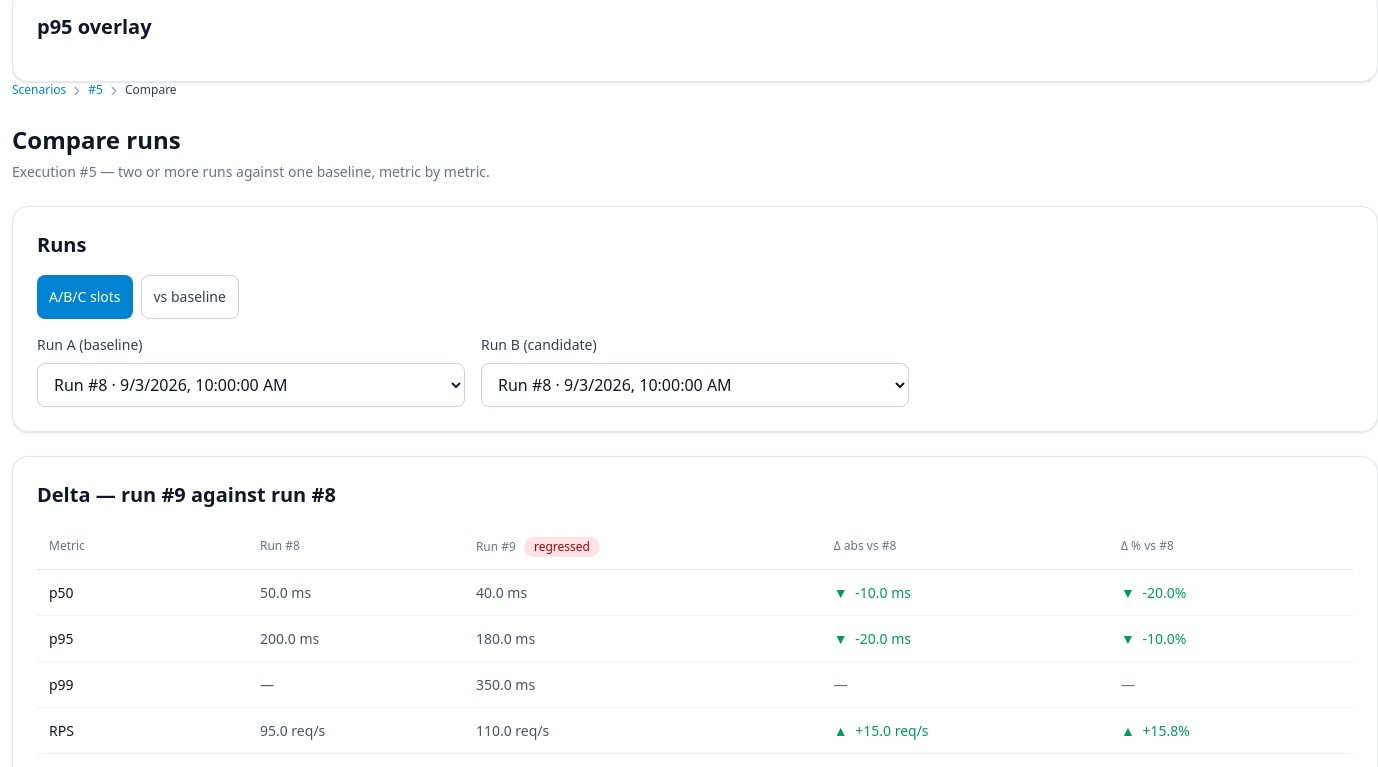
Test: RunCompare (mounted) › swaps runs when a selector changes (selector wiring)
(page scrolled)
Select "Run #8 · 9/3/2026, 10:00:00 AM" in the dropdown labelled "Run B (candidate)" at (695, 385), box [481,363,909,407]
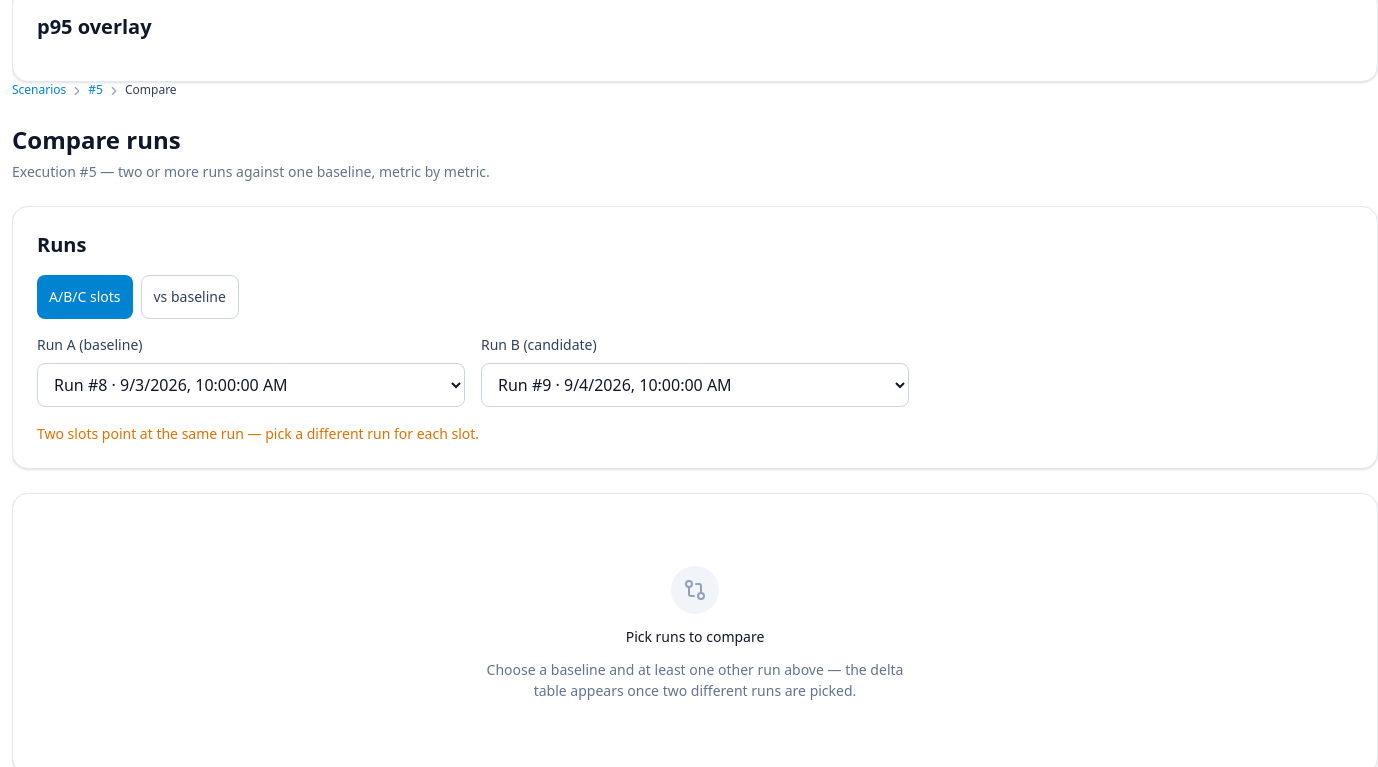
Expected: the text with test id "compare-same-run" is shown, [37,424,479,443]
Select "Run #9 · 9/4/2026, 10:00:00 AM" in the dropdown labelled "Run B (candidate)" at (695, 385), box [481,363,909,407]
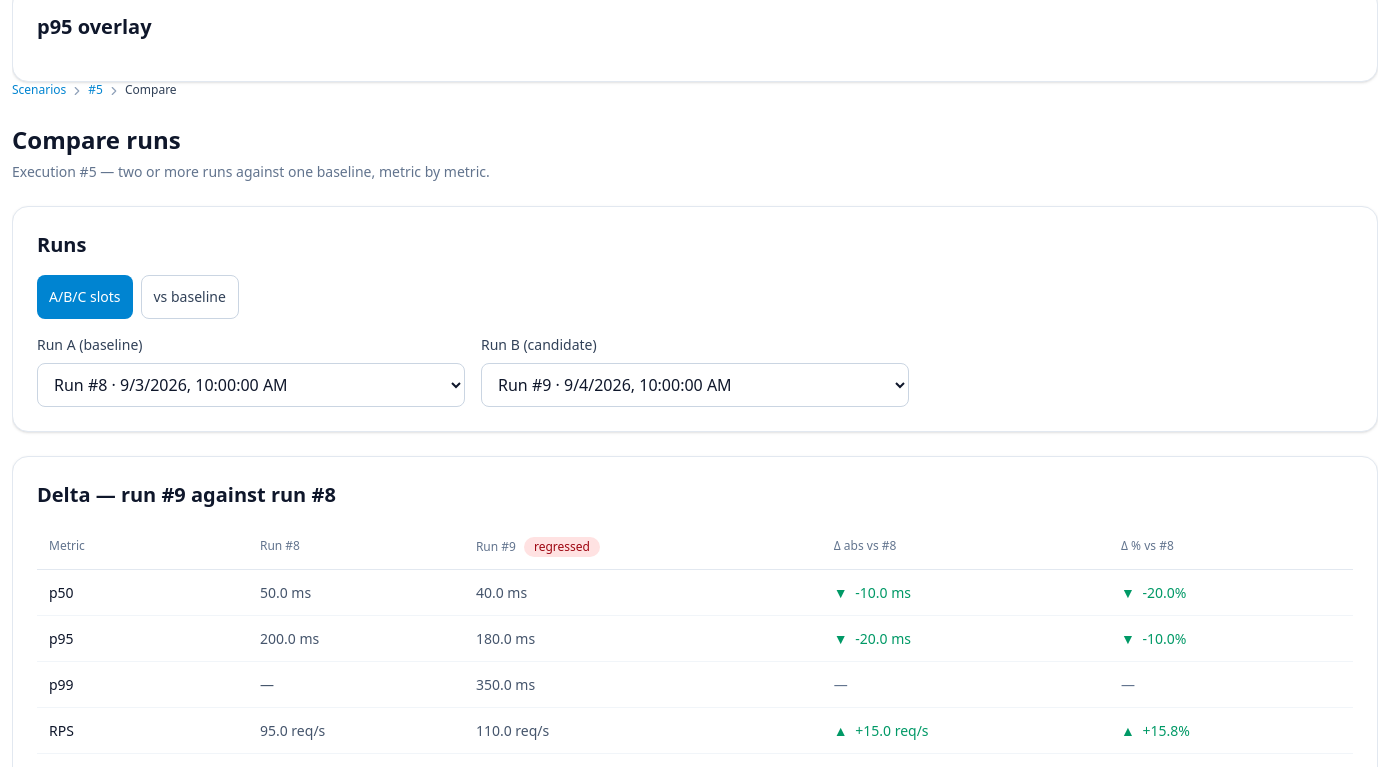
Expected: the text with test id "compare-same-run" is gone
Expected: the cell "▼ -10.0%" is shown, [1109,615,1353,661]
